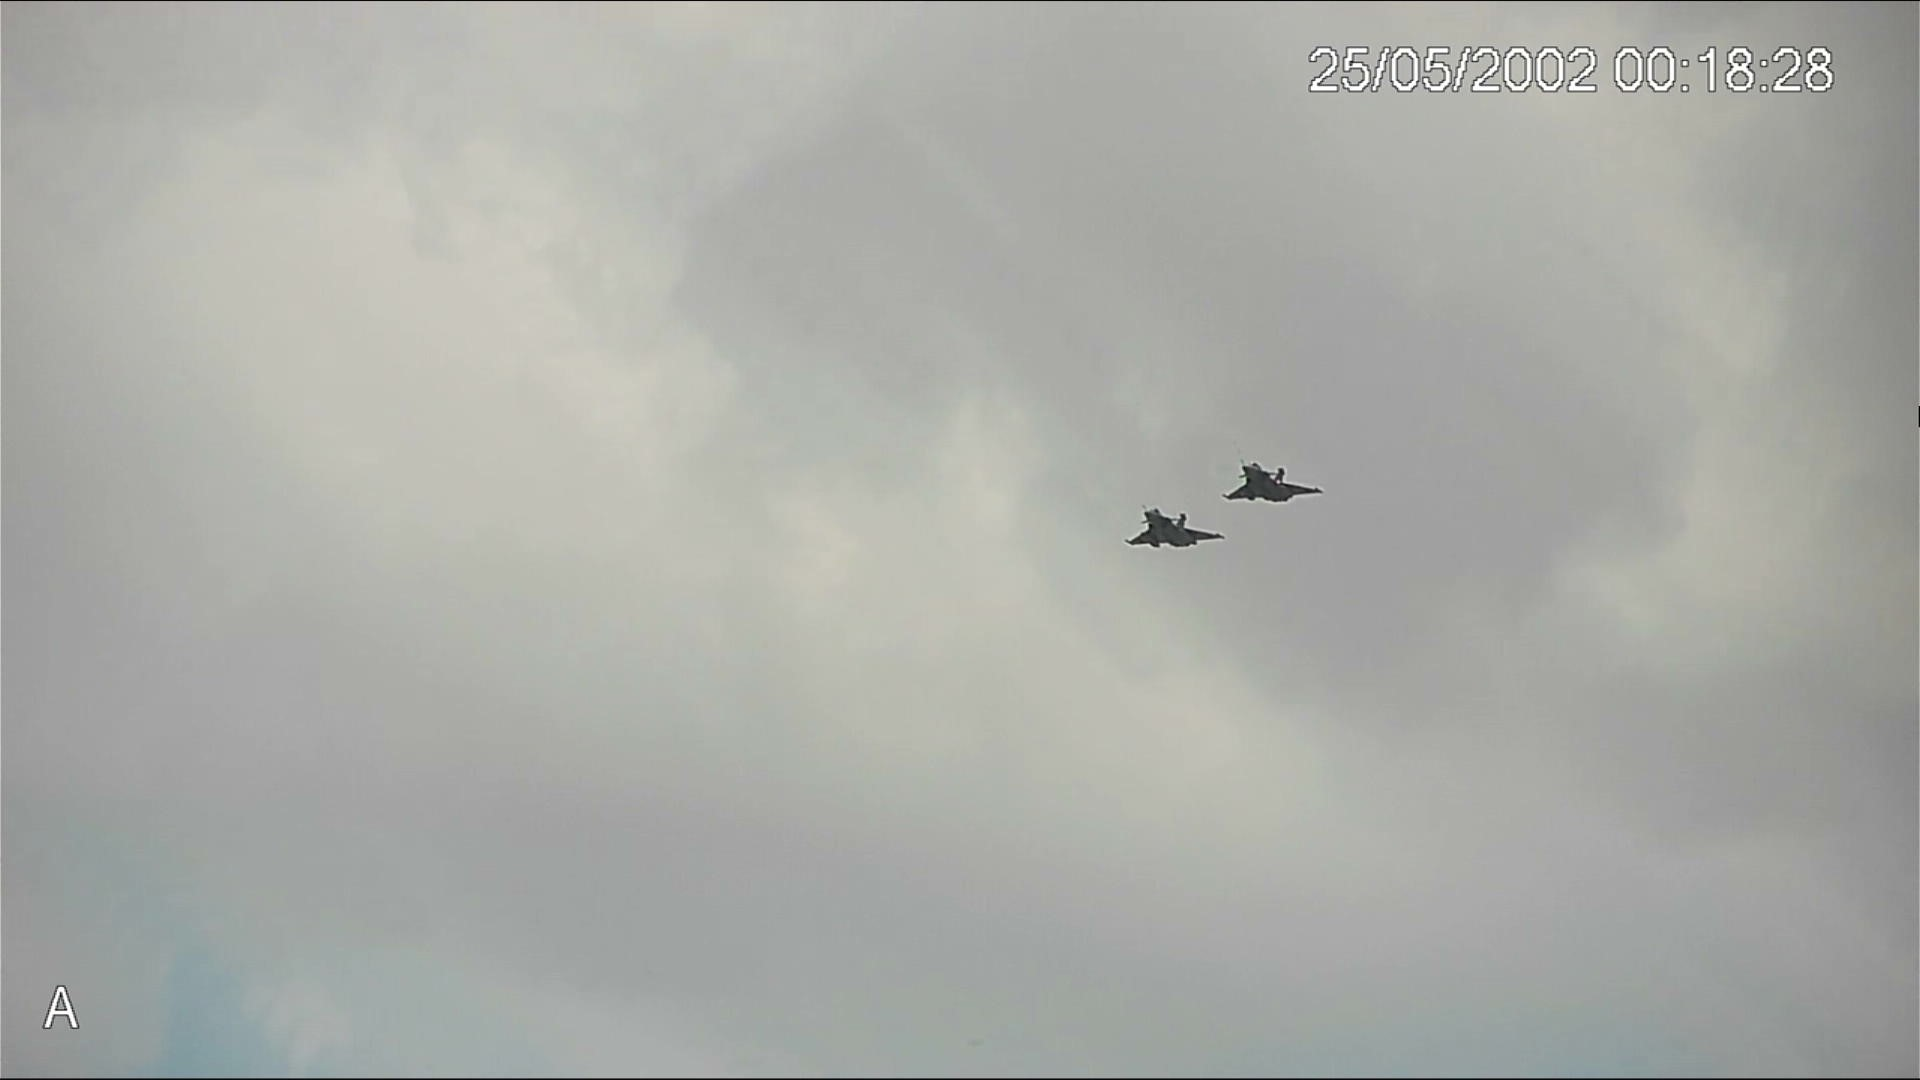SU_30: (1217, 458, 1325, 512), (1122, 505, 1225, 550)
